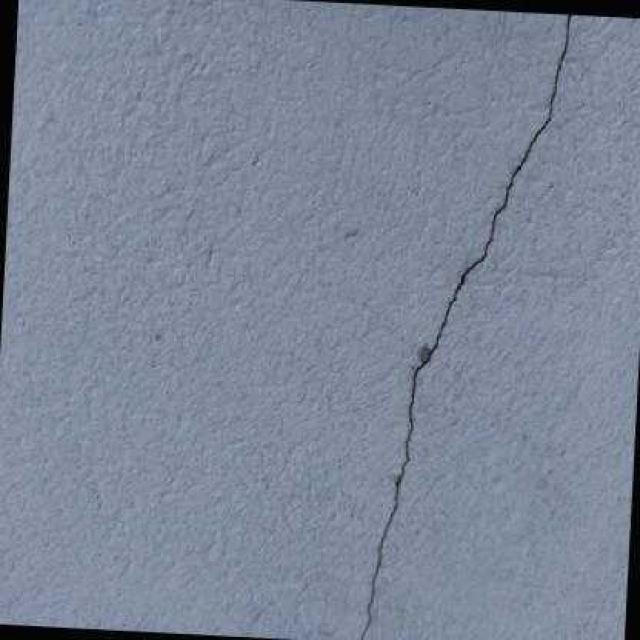D00: (356, 12, 571, 640)
